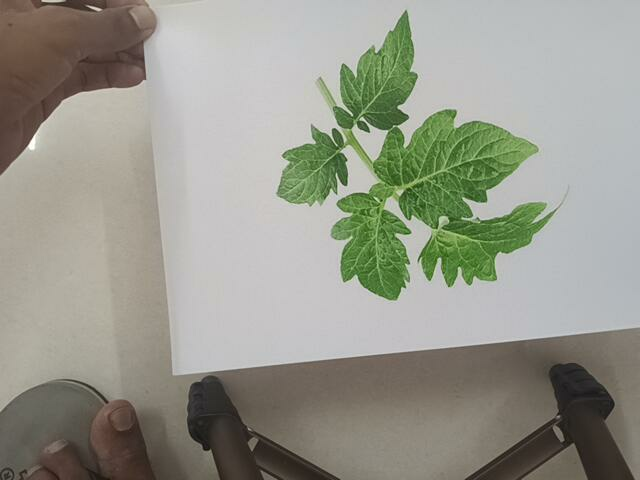Tomamto_Leaf_Healthy: (254, 1, 562, 313)
